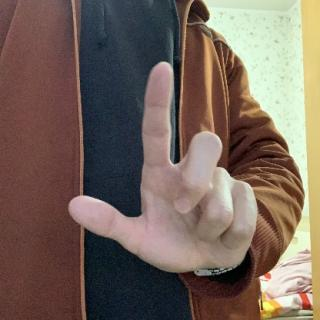LAAM: (64, 55, 263, 292)
